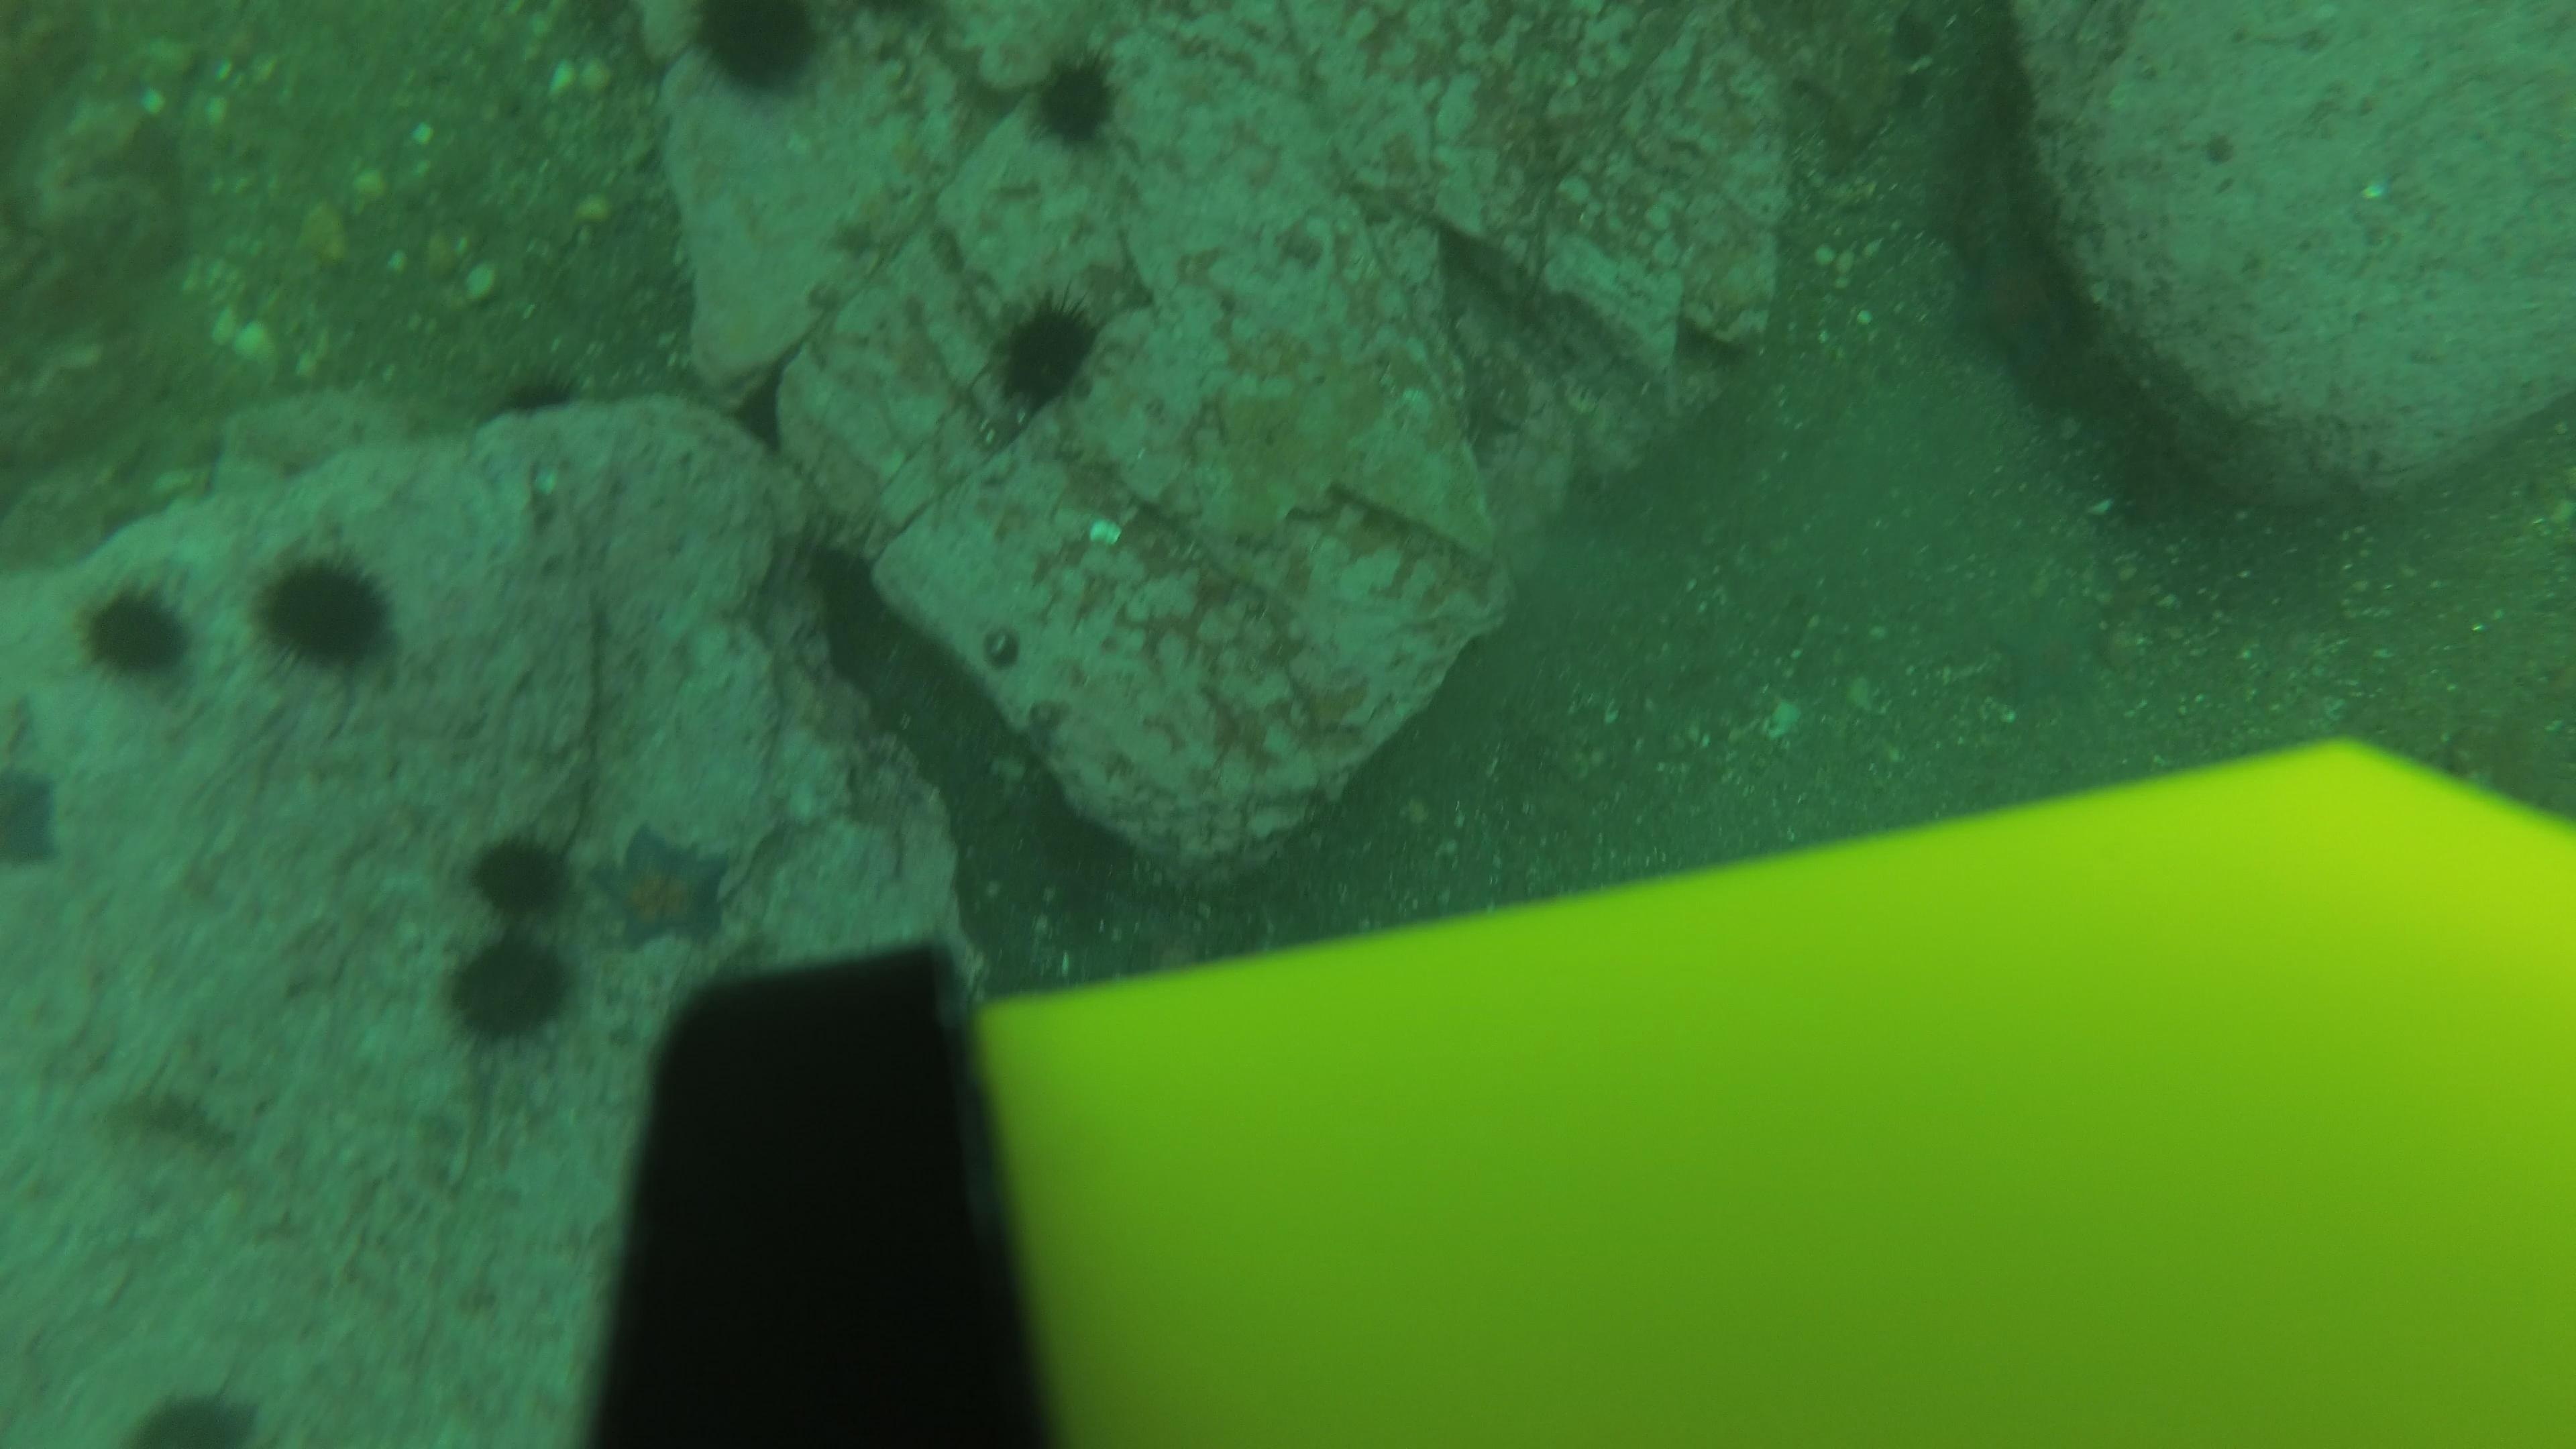echinus: (253, 548, 398, 674), (982, 288, 1108, 416), (681, 0, 830, 99), (444, 932, 573, 1046), (74, 579, 196, 683), (1023, 48, 1127, 152), (464, 826, 573, 920), (129, 1380, 262, 1444), (0, 761, 65, 874), (497, 359, 577, 418)
starfish: (1944, 219, 2081, 375), (596, 823, 736, 952), (1987, 586, 2111, 711)
